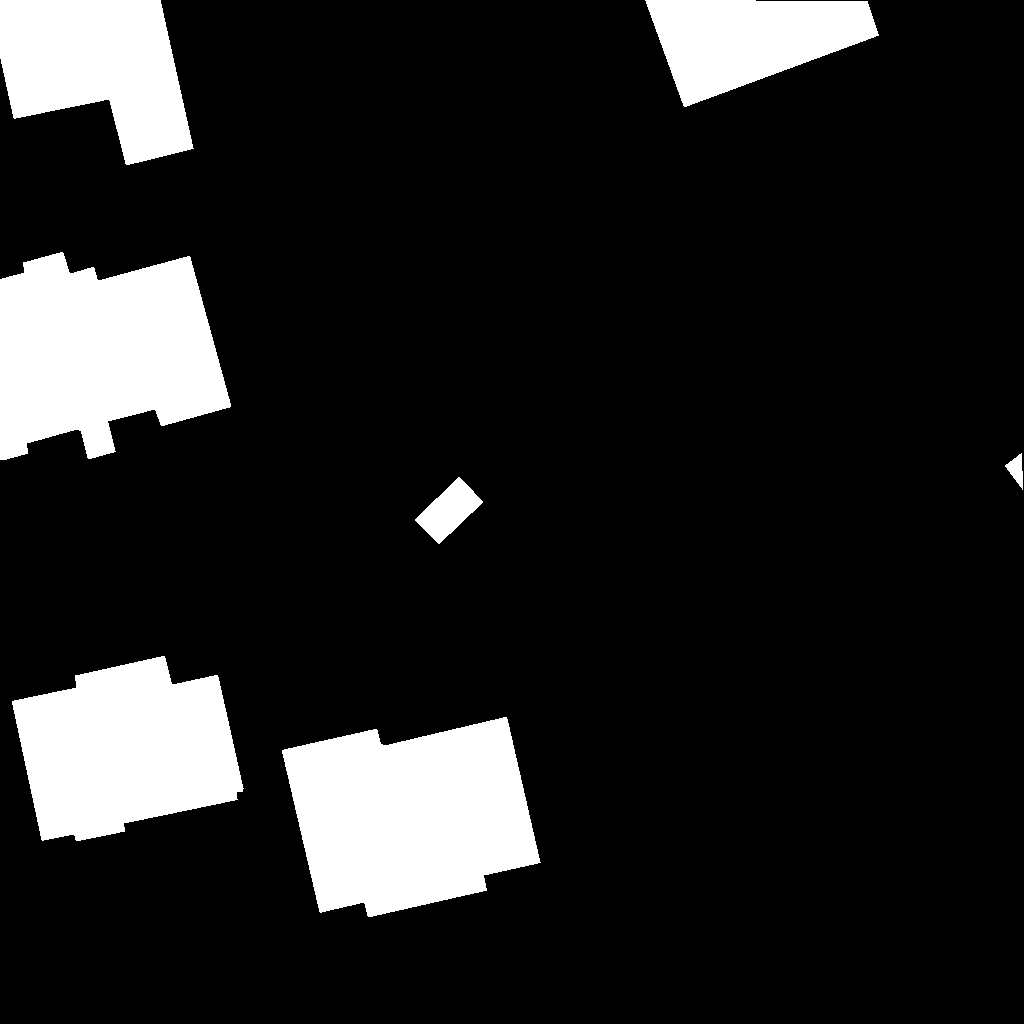building: (282, 717, 541, 918), (0, 252, 232, 461), (12, 656, 244, 842), (0, 0, 194, 166), (645, 0, 880, 108), (415, 477, 484, 545), (1005, 453, 1024, 491)
